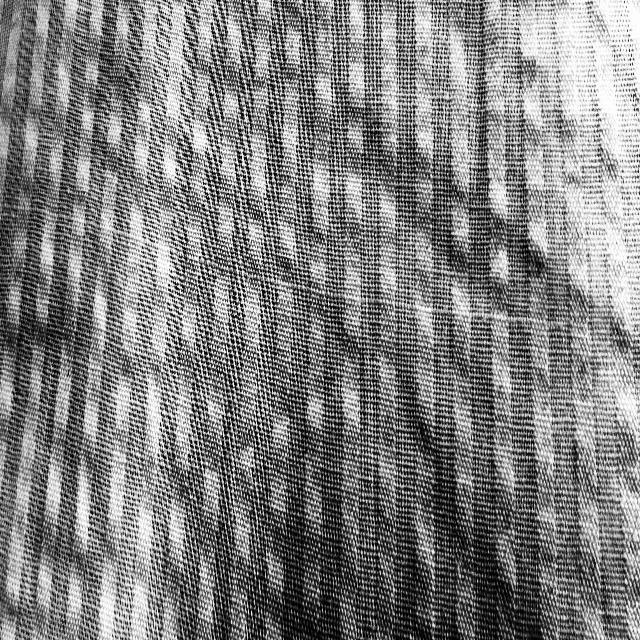Foreign_yarn: (0, 181, 599, 351)
